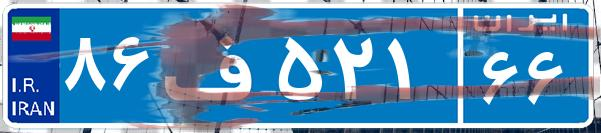1: (385, 28, 445, 110)
2: (330, 28, 385, 110)
5: (273, 28, 330, 110)
6: (475, 38, 525, 113), (110, 28, 158, 105), (525, 38, 570, 115)
8: (57, 26, 110, 107)
ف: (158, 15, 273, 115)
